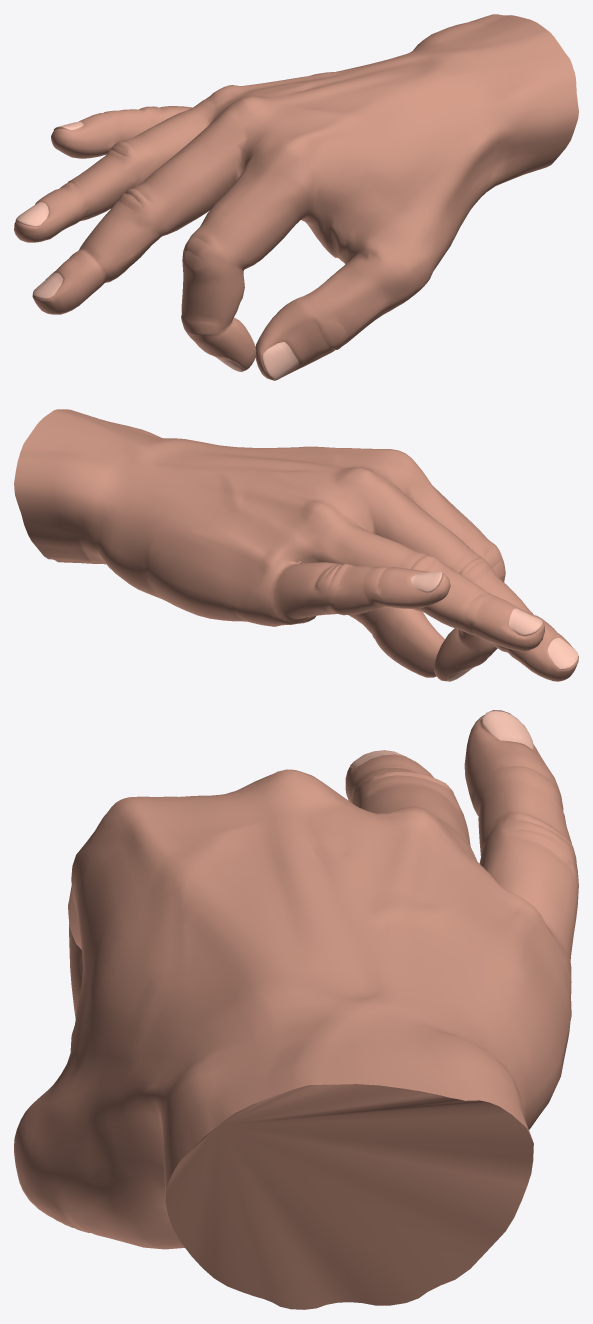
The model's file is hand_14.obj.
The picture shows the model from 3 angles, top to bottom: view 1: azimuth 30°, elevation 25°; view 2: azimuth 150°, elevation 25°; view 3: azimuth 270°, elevation 25°; orthographic projection. The views are drawn at different scales.
Parts seen in each view (by area): view 1: Figure_2; view 2: Figure_2; view 3: Figure_2.
Part boxes in pixels (left/top/right/bottom): Figure_2: left=14, top=14, right=578, bottom=380; Figure_2: left=14, top=409, right=578, bottom=681; Figure_2: left=14, top=710, right=578, bottom=1309.
Bounding box in the file's own units: 0.8646 × 0.3774 × 0.4144.
